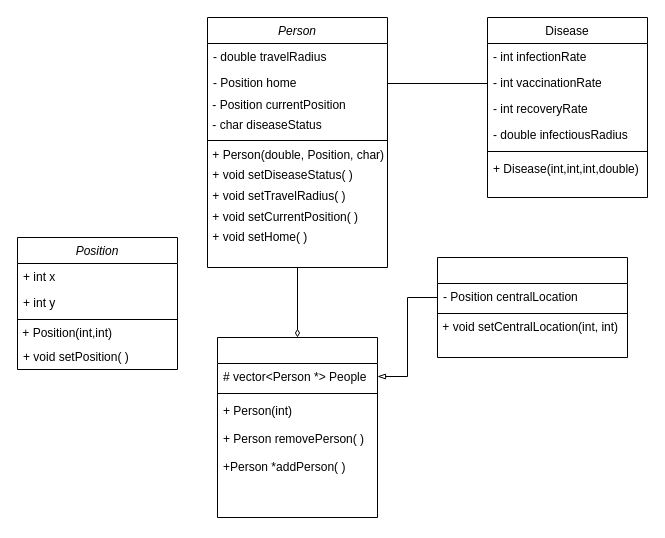
The diagram is 665 pixels wide and 538 high, and some of its shapes have lost their labels. The box of each missing label's shape, as (x1, y1, x2, y2) in pixels:
Community: (436, 256, 628, 358)
Population: (216, 336, 378, 518)
